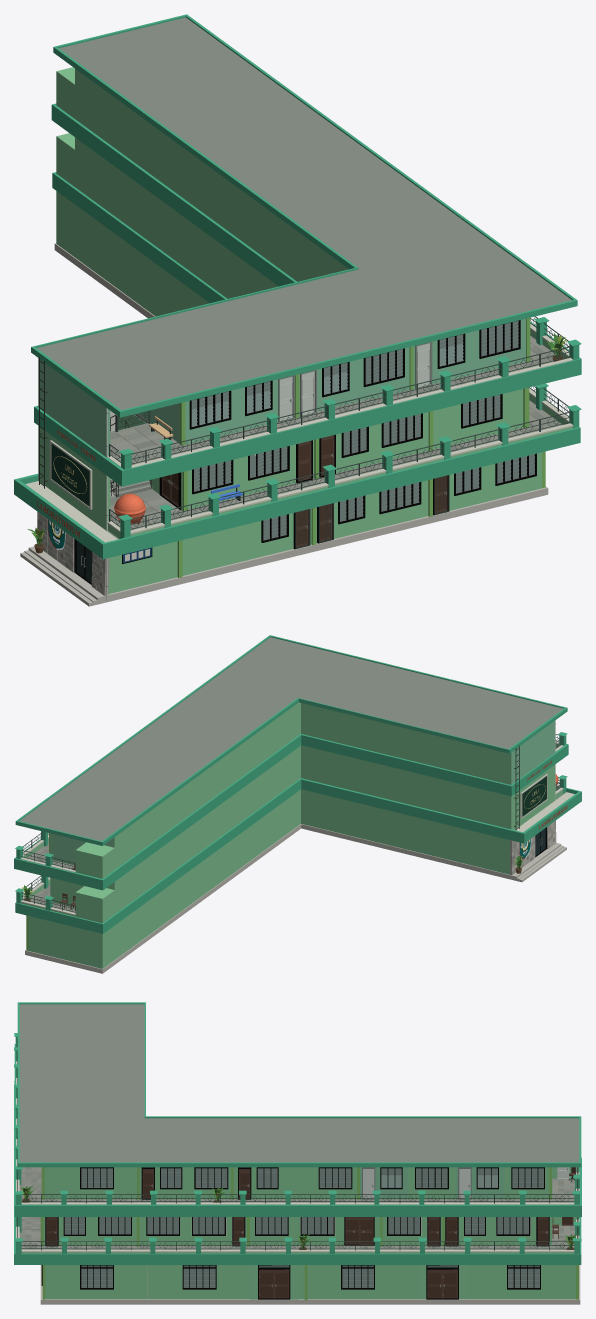
File: laboratorium_outdoor.glb
The picture shows the model from 3 angles, top to bottom: view 1: azimuth 30°, elevation 25°; view 2: azimuth 150°, elevation 25°; view 3: azimuth 270°, elevation 25°; orthographic projection. The views are drawn at different scales.
Parts seen in each view (by area): view 1: L2_Pelat_ruang.003, L2_Balok_fasad_utama, Kanopi_utama_papan_nama, L2_Partisi_perkiraan_X12.009, L3_Balok_fasad_utama, L2_Partisi_perkiraan_X12.006, L2_Partisi_perkiraan_X12.010, Tangga_masuk_1, L1_B01_Dinding_dengan_bukaan, L3_Fasad_depan_bagian_logo, L2_B05_Dinding_dengan_bukaan.001, L3_B03_Bukaan_2_jalusi_open_Kusen (+23 smaller); view 2: L2_Pelat_ruang.003, L2_Dinding_belakang_inti, L2_Partisi_perkiraan_X12.010, L2_Balok_fasad_utama, Kanopi_utama_papan_nama, L2_Partisi_perkiraan_X12.009, L2_Partisi_perkiraan_X12.006, L3_Balok_fasad_utama, Tangga_masuk_1, L2_B07_Bukaan_1_jalusi_Daun_jalusi_2.011, L3_Fasad_depan_bagian_logo, L2_Dinding_annex_belakang (+7 smaller); view 3: L2_Pelat_ruang.003, L2_Balok_fasad_utama, Kanopi_utama_papan_nama, L3_Balok_fasad_utama, L2_B07_Bukaan_1_jalusi_Daun_jalusi_2.010, L2_B07_Bukaan_1_jalusi_Daun_jalusi_2.011, L2_B07_Bukaan_1_jalusi_Daun_jalusi_2.008, L2_B07_Bukaan_1_jalusi_Daun_jalusi_2.009, Tangga_masuk_1, L2_B07_Bukaan_1_jalusi_Daun_jalusi_2.007, L2_B07_Bukaan_1_jalusi_Daun_jalusi_2.004, L2_B04_Dinding_dengan_bukaan.004 (+27 smaller).
Part boxes in pixels (x1=…): L2_Pelat_ruang.003: x1=37, y1=17, x2=571, y2=410; L2_Balok_fasad_utama: x1=34, y1=103, x2=581, y2=486; Kanopi_utama_papan_nama: x1=14, y1=172, x2=580, y2=559; L2_Partisi_perkiraan_X12.009: x1=75, y1=69, x2=348, y2=281; L3_Balok_fasad_utama: x1=31, y1=14, x2=577, y2=417; L2_Partisi_perkiraan_X12.006: x1=75, y1=137, x2=278, y2=298; L2_Partisi_perkiraan_X12.010: x1=58, y1=193, x2=209, y2=316; Tangga_masuk_1: x1=28, y1=243, x2=548, y2=604; L1_B01_Dinding_dengan_bukaan: x1=108, y1=522, x2=255, y2=593; L3_Fasad_depan_bagian_logo: x1=38, y1=358, x2=110, y2=457; L2_B05_Dinding_dengan_bukaan.001: x1=433, y1=389, x2=523, y2=449; L3_B03_Bukaan_2_jalusi_open_Kusen: x1=239, y1=375, x2=295, y2=431; L2_Pelat_ruang.003: x1=19, y1=637, x2=563, y2=841; L2_Dinding_belakang_inti: x1=301, y1=703, x2=509, y2=874; L2_Partisi_perkiraan_X12.010: x1=104, y1=789, x2=300, y2=967; L2_Balok_fasad_utama: x1=14, y1=734, x2=568, y2=890; Kanopi_utama_papan_nama: x1=15, y1=778, x2=581, y2=933; L2_Partisi_perkiraan_X12.009: x1=113, y1=702, x2=300, y2=869; L2_Partisi_perkiraan_X12.006: x1=113, y1=746, x2=300, y2=913; L3_Balok_fasad_utama: x1=15, y1=635, x2=567, y2=845; Tangga_masuk_1: x1=25, y1=824, x2=561, y2=973; L2_B07_Bukaan_1_jalusi_Daun_jalusi_2.011: x1=28, y1=916, x2=103, y2=968; L3_Fasad_depan_bagian_logo: x1=510, y1=721, x2=555, y2=784; L2_Dinding_annex_belakang: x1=77, y1=886, x2=114, y2=922; L2_Pelat_ruang.003: x1=19, y1=1004, x2=579, y2=1162; L2_Balok_fasad_utama: x1=14, y1=1044, x2=581, y2=1216; Kanopi_utama_papan_nama: x1=14, y1=1087, x2=581, y2=1264; L3_Balok_fasad_utama: x1=17, y1=1002, x2=581, y2=1167; L2_B07_Bukaan_1_jalusi_Daun_jalusi_2.010: x1=298, y1=1265, x2=418, y2=1299; L2_B07_Bukaan_1_jalusi_Daun_jalusi_2.011: x1=466, y1=1265, x2=575, y2=1299; L2_B07_Bukaan_1_jalusi_Daun_jalusi_2.008: x1=45, y1=1265, x2=147, y2=1299; L2_B07_Bukaan_1_jalusi_Daun_jalusi_2.009: x1=148, y1=1265, x2=249, y2=1299; Tangga_masuk_1: x1=40, y1=1265, x2=580, y2=1304; L2_B07_Bukaan_1_jalusi_Daun_jalusi_2.007: x1=45, y1=1167, x2=136, y2=1199; L2_B07_Bukaan_1_jalusi_Daun_jalusi_2.004: x1=283, y1=1167, x2=356, y2=1199; L2_B04_Dinding_dengan_bukaan.004: x1=491, y1=1217, x2=551, y2=1246.
Bounding box in the file's own units: 26.53 × 10.71 × 37.71.
Materials: 612 (1 with a texture image).
